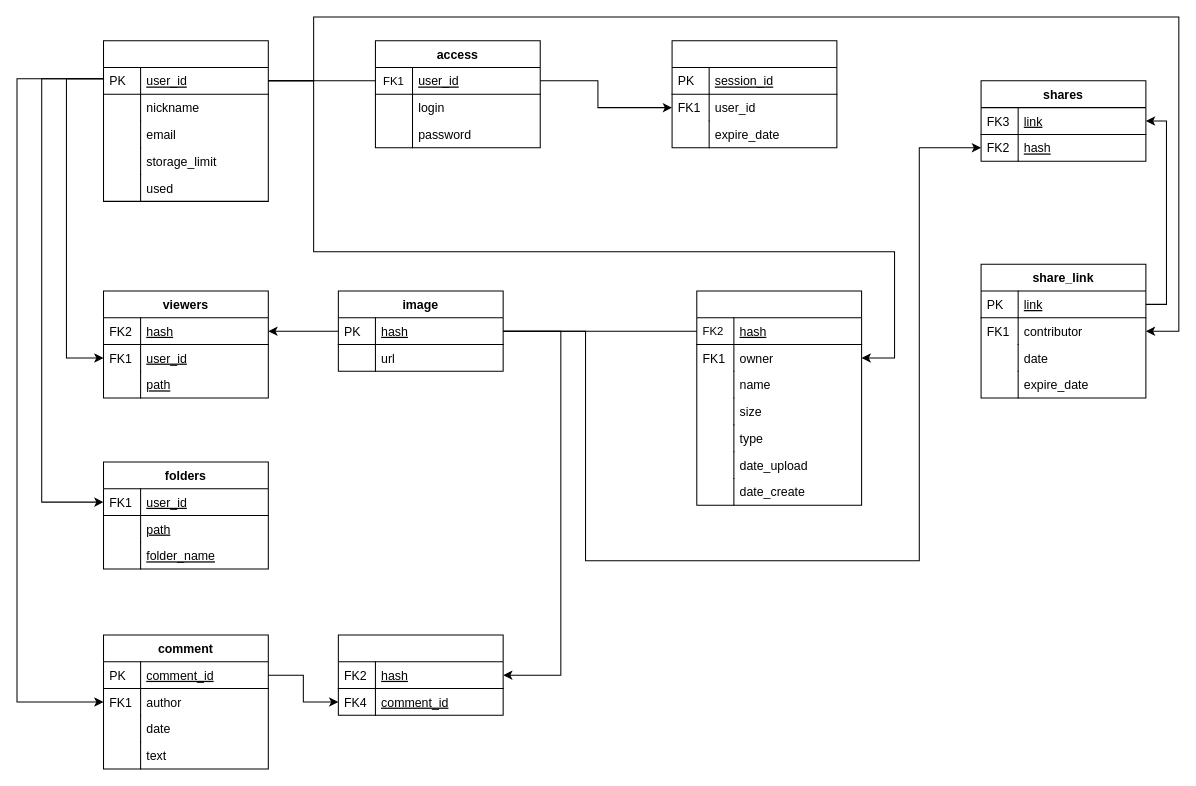
Some shapes in this 1196 by 786 pixel diagram are drawn without their labels. The shapes that lost their labels are listed below. From the top down, each one's box as (x1, y1, x2, y2) in pixels, then its label:
(671, 40, 837, 148): sessions
(102, 40, 268, 201): user_info
(696, 290, 862, 505): file_info
(337, 634, 503, 715): comments
